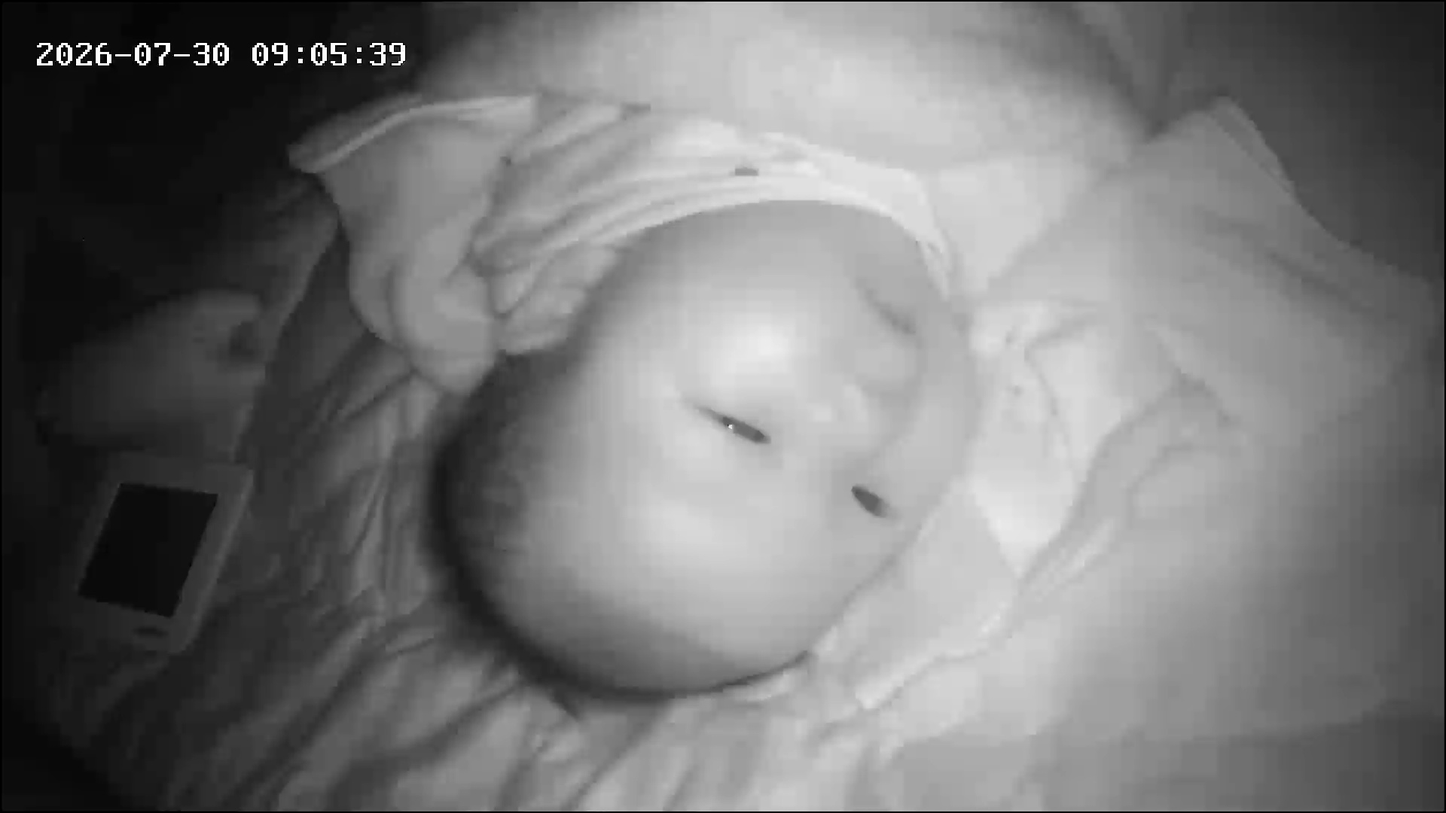baby: (404, 2, 1216, 726), (258, 0, 1034, 727)
baby_face: (441, 199, 984, 712)
